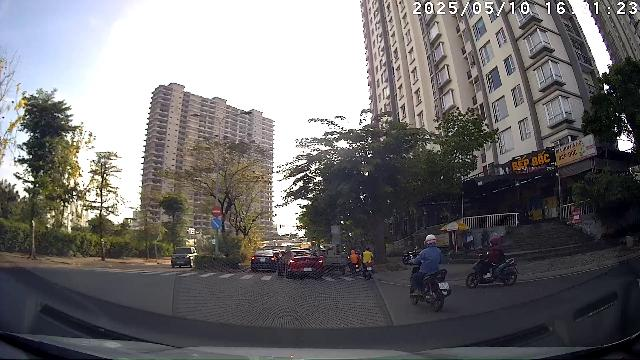102-cam-di-nguoc-chieu: (210, 206, 222, 217)
302a-huong-phai-di-vong-chuong-ngai-vat-1: (211, 218, 222, 229)
